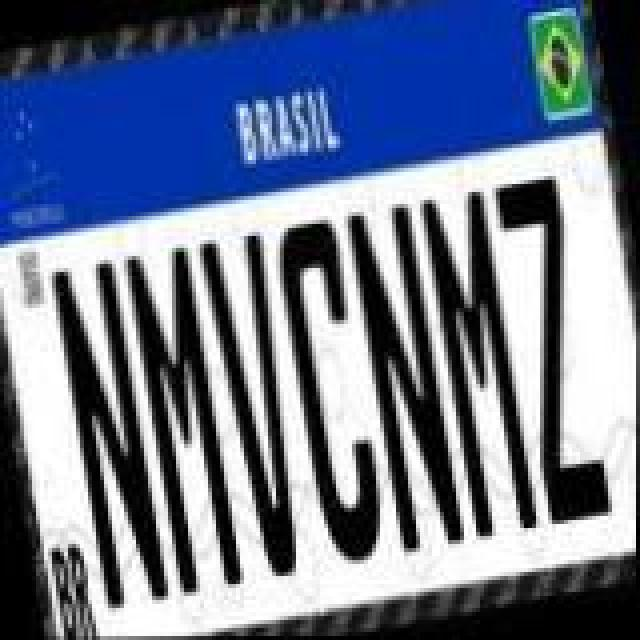C: (270, 214, 398, 570)
M: (118, 244, 246, 600), (414, 184, 542, 540)
N: (46, 258, 174, 610), (342, 204, 470, 556)
V: (194, 228, 322, 580)
Z: (490, 172, 618, 528)
